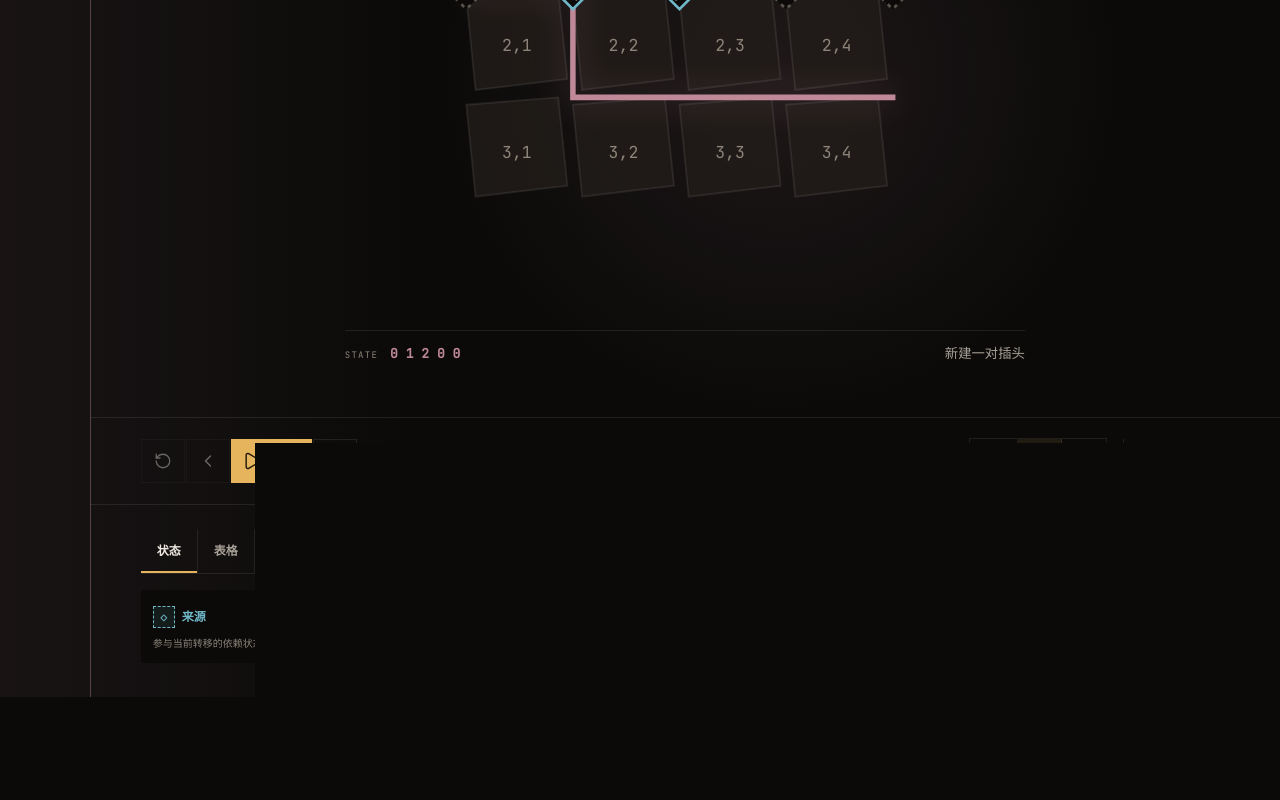
Scenario: PlugContourDemo › advances the contour state and exposes all standard detail layers
(page scrolled)
Expected: the tab "状态" is shown, [141,529,198,573]
Expected: the tab "表格" is shown, [198,529,255,573]
Click the button named "下一步". click: (335,461)
box: [313,439,357,483]
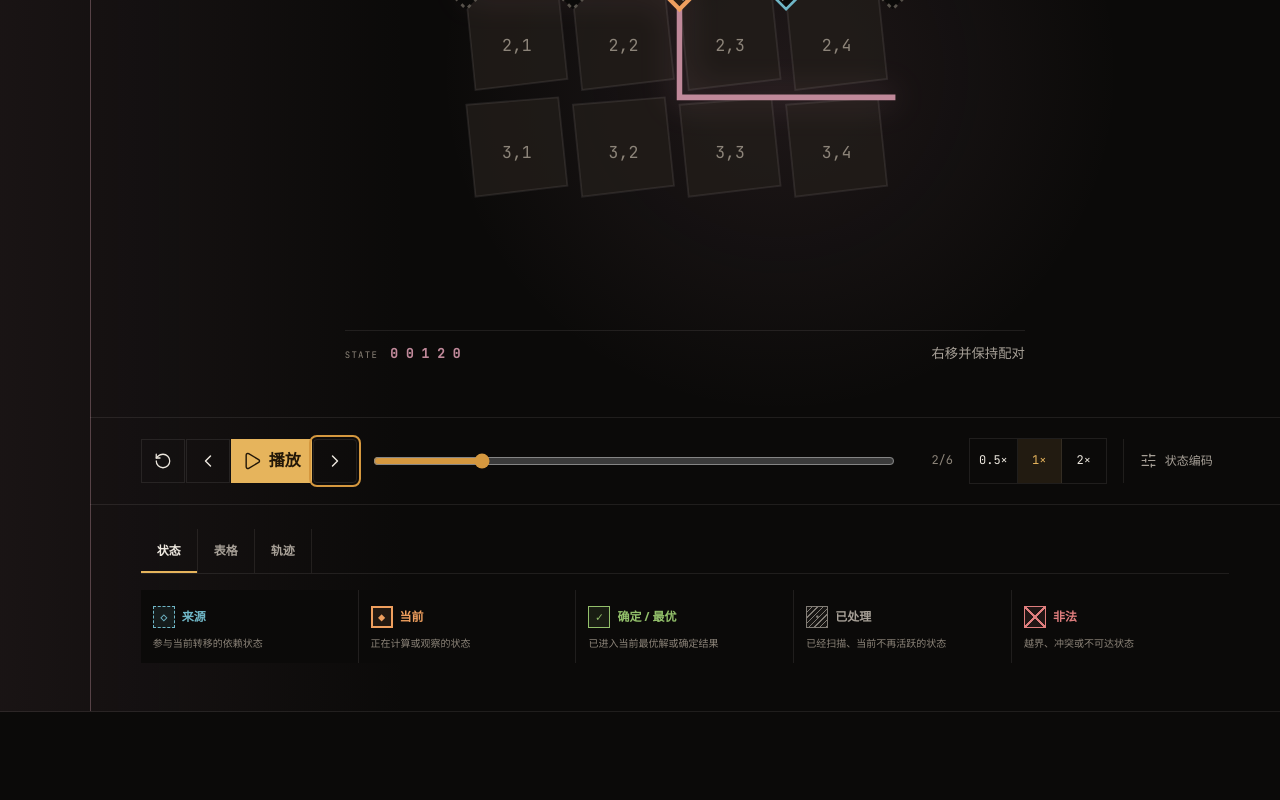
Click the tab "表格". click: (226,551)
box: [198,529,255,573]
(page scrolled)
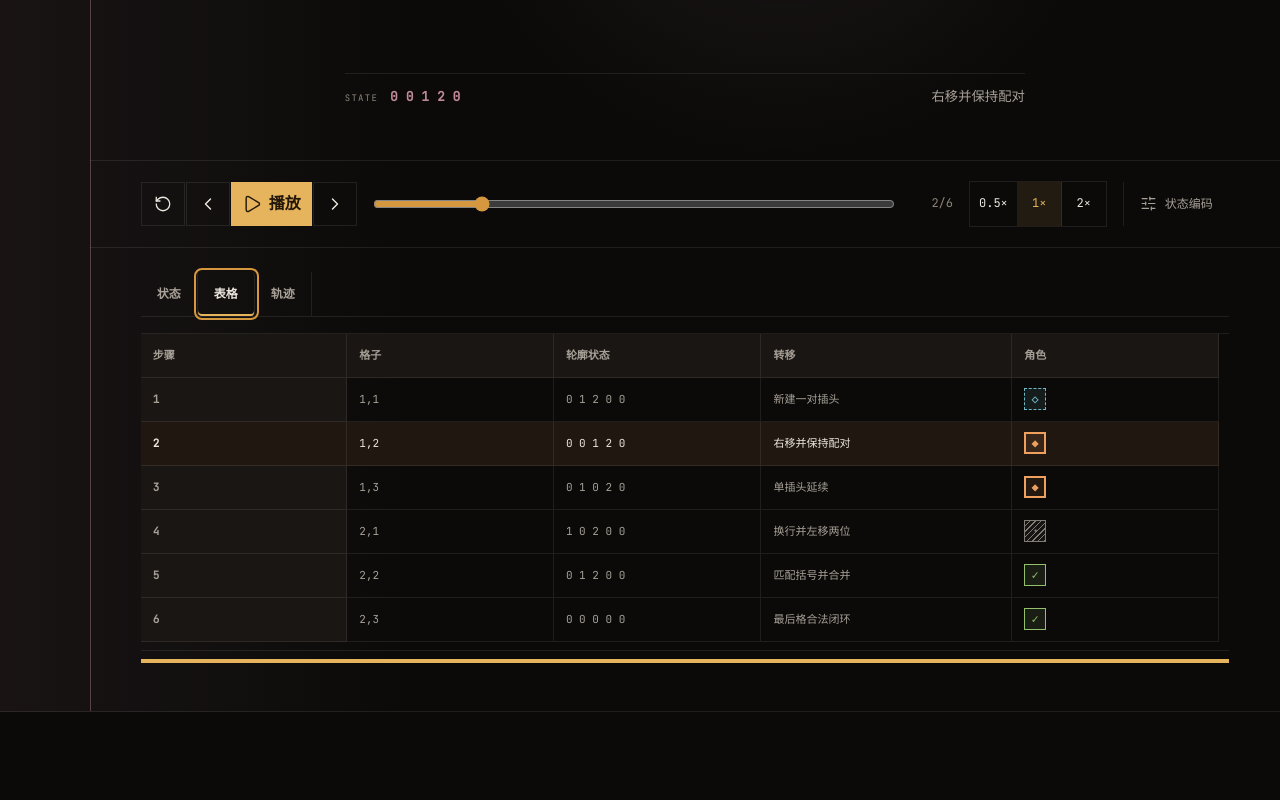
Expected: the element named "插头 DP 轮廓状态转移表" is shown, [141,333,1229,651]
